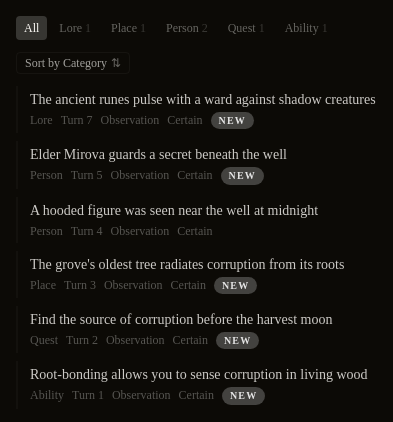
Test case: AC-2: Category filtering › filters to only Place entries when Place tab clicked
Click the tab "Place 1". click: (128, 28)
box: [103,16,154,40]
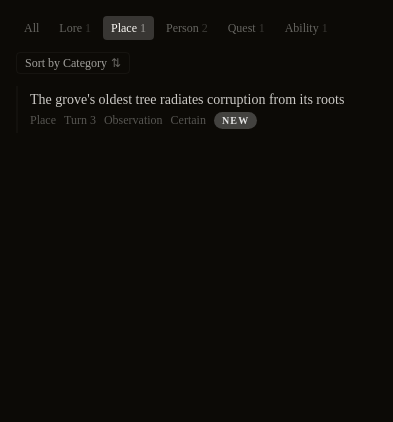
expect the text "The grove's oldest tree radiates corruption from its roots" is shown: met, box [30,92,344,107]
expect the text "Elder Mirova" is gone: met
expect the text "ancient runes" is gone: met
